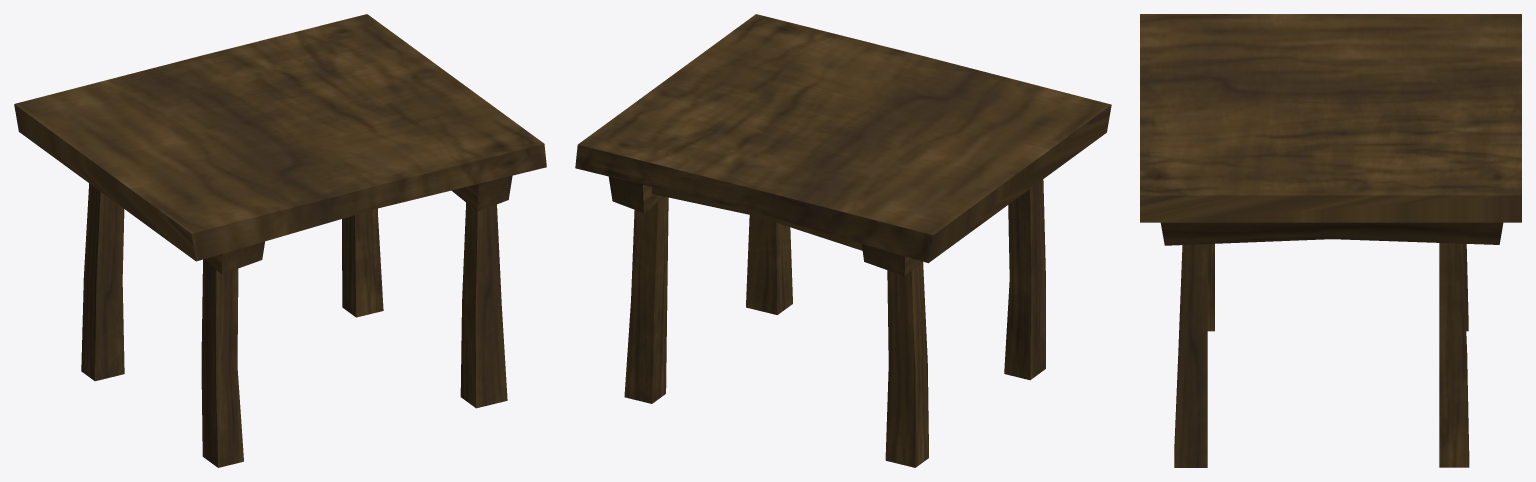
The model's file is table_bar_square.fbx.
The picture shows the model from 3 angles, left to right: view 1: azimuth 30°, elevation 25°; view 2: azimuth 150°, elevation 25°; view 3: azimuth 270°, elevation 25°; orthographic projection. The views are drawn at different scales.
Visible parts, largest first — view 1: polySurface14, polySurface18, polySurface19, polySurface54, polySurface55, polySurface56, polySurface16; view 2: polySurface14, polySurface54, polySurface55, polySurface19, polySurface18, polySurface15, polySurface56, polySurface16; view 3: polySurface14, polySurface56, polySurface18, polySurface55, polySurface19.
Boxes of the visible parts, box(x1,y1,x2,y2) form: polySurface14: box(14, 14, 546, 261); polySurface18: box(460, 202, 507, 408); polySurface19: box(201, 260, 243, 467); polySurface54: box(81, 183, 124, 381); polySurface55: box(342, 208, 383, 317); polySurface56: box(451, 175, 512, 211); polySurface16: box(203, 241, 264, 273); polySurface14: box(575, 14, 1111, 263); polySurface54: box(885, 262, 928, 467); polySurface55: box(624, 196, 668, 403); polySurface19: box(1004, 179, 1045, 380); polySurface18: box(746, 215, 792, 314); polySurface15: box(651, 187, 862, 250); polySurface56: box(608, 176, 663, 212); polySurface16: box(861, 244, 922, 276); polySurface14: box(1140, 14, 1521, 222); polySurface56: box(1160, 222, 1503, 245); polySurface18: box(1174, 244, 1207, 467); polySurface55: box(1439, 243, 1469, 467); polySurface19: box(1207, 243, 1214, 331).
Bounding box in the file's own units: 420 × 297 × 362.
1 material, 1 textured.
